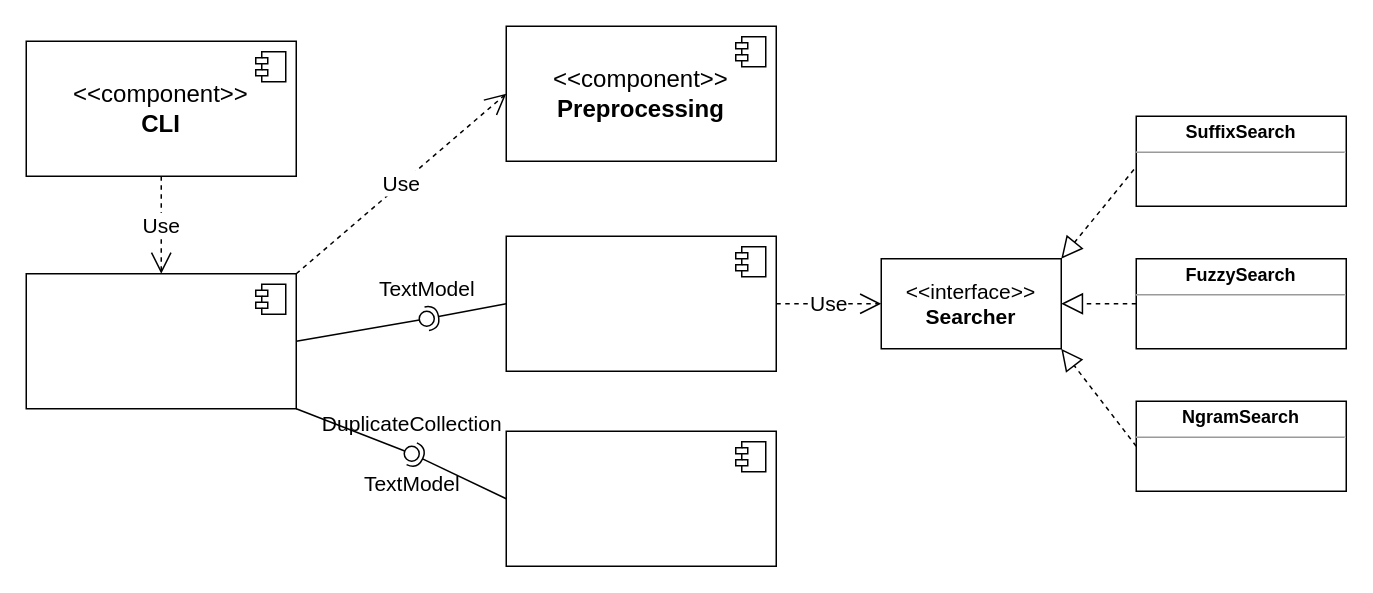
This 1373x593 diagram has some shape labels left out. The shapes that lost their labels are listed below. From the top down, each one's centre as x and y in pixels, then its label:
point 640,303: <<component>> DuplicateSearch
point 160,340: <<component>> API
point 640,498: <<component>> BalanceGroups
